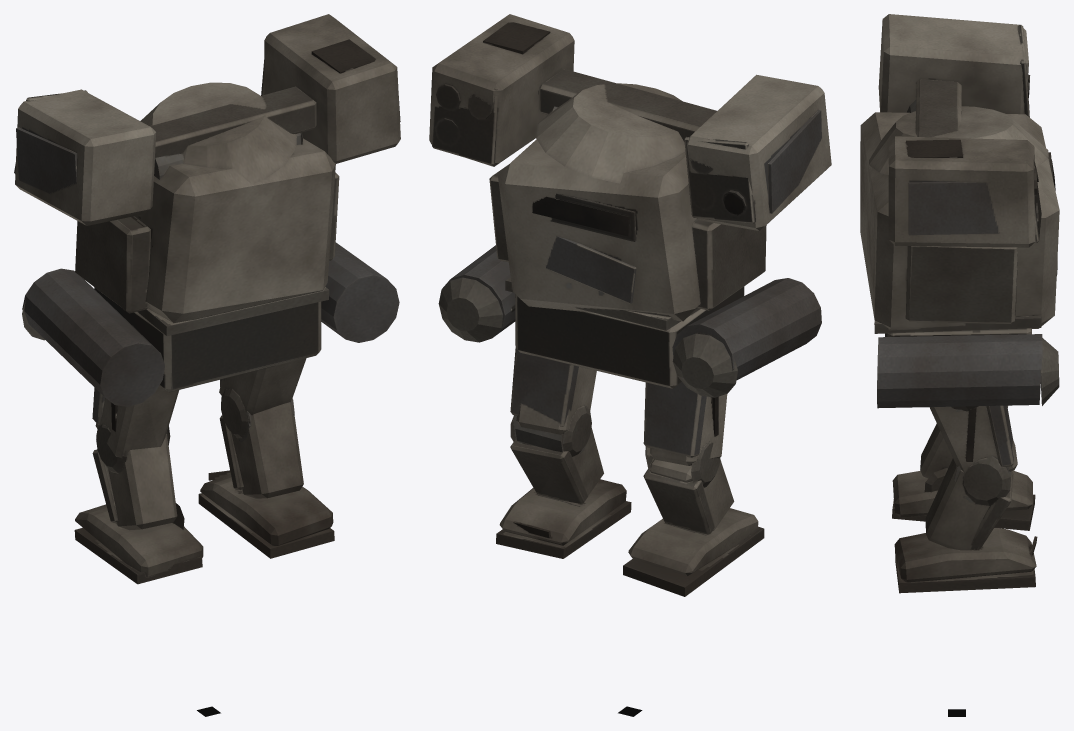
File: ord_skyguard_wreck.fbx
The picture shows the model from 3 angles, left to right: view 1: azimuth 30°, elevation 25°; view 2: azimuth 150°, elevation 25°; view 3: azimuth 270°, elevation 25°; orthographic projection.
Visible parts, largest first — view 1: torso_bar, launcher_bar, base_bar, footR_bar, footL_bar, shinR_bar, shinL_bar, thighL_bar, thighR_bar; view 2: torso_bar, launcher_bar, base_bar, thighR_bar, footL_bar, thighL_bar, footR_bar, shinL_bar, shinR_bar; view 3: launcher_bar, torso_bar, base_bar, footR_bar, thighR_bar, shinR_bar, footL_bar, shinL_bar.
Part boxes in pixels (box(x1,y1,x2,y2)): torso_bar: box(75, 82, 339, 335); launcher_bar: box(14, 14, 400, 225); base_bar: box(22, 242, 399, 406); footR_bar: box(198, 470, 334, 558); footL_bar: box(74, 504, 203, 584); shinR_bar: box(219, 402, 303, 498); shinL_bar: box(92, 434, 184, 530); thighL_bar: box(92, 385, 179, 473); thighR_bar: box(219, 358, 306, 441); torso_bar: box(489, 83, 766, 330); launcher_bar: box(429, 14, 831, 230); base_bar: box(438, 245, 821, 397); thighR_bar: box(510, 347, 596, 456); footL_bar: box(623, 508, 764, 596); thighL_bar: box(643, 382, 727, 487); footR_bar: box(496, 479, 631, 558); shinL_bar: box(643, 459, 734, 534); shinR_bar: box(510, 427, 603, 503); launcher_bar: box(878, 14, 1041, 247); torso_bar: box(860, 100, 1059, 333); base_bar: box(877, 259, 1059, 408); footR_bar: box(894, 528, 1037, 593); thighR_bar: box(929, 405, 1017, 505); shinR_bar: box(925, 458, 1013, 550); footL_bar: box(892, 470, 1035, 530); shinL_bar: box(920, 423, 952, 492).
Size of the model in its own units: 422 by 766 by 221.
Materials: 2 (2 with a texture image).
